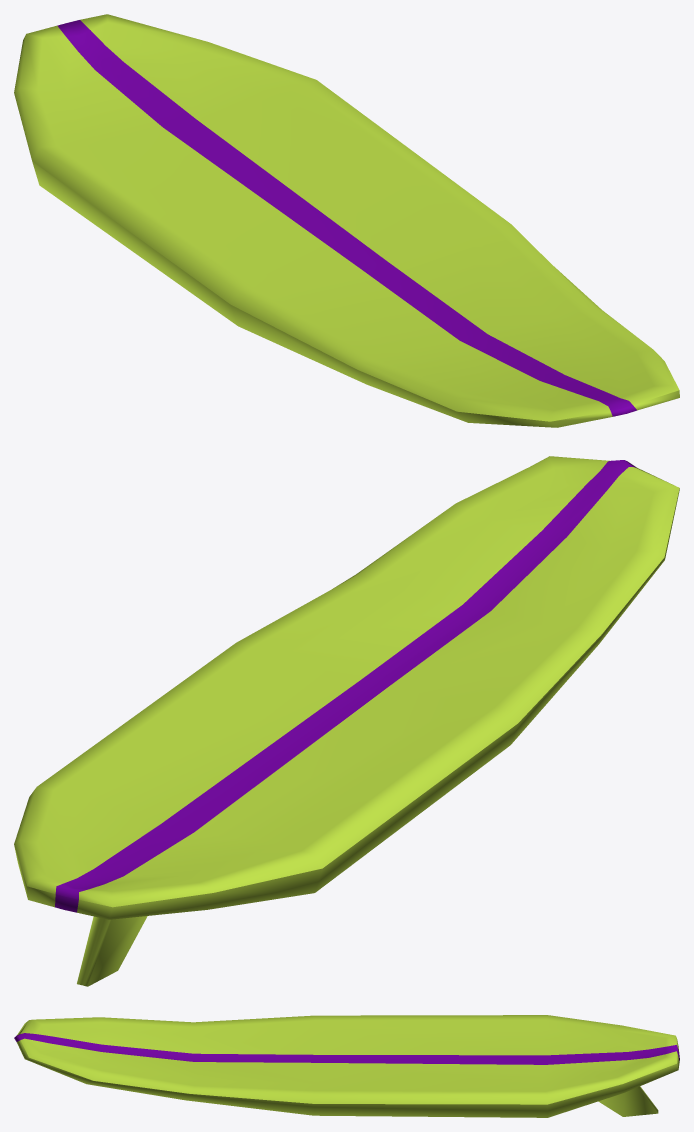
File: SURFBOARD.fbx
3 renders of one model, top to bottom at view 1: azimuth 30°, elevation 25°; view 2: azimuth 150°, elevation 25°; view 3: azimuth 270°, elevation 25°, orthographic. The views are drawn at different scales.
Visible parts, largest first — view 1: Surf; view 2: Surf; view 3: Surf.
Part boxes in pixels (x1,y1,x2,y2): Surf: (14,14,679,427); Surf: (14,456,679,986); Surf: (14,1015,679,1117).
Bounding box in the file's own units: 1.1 × 0.4883 × 3.64.
